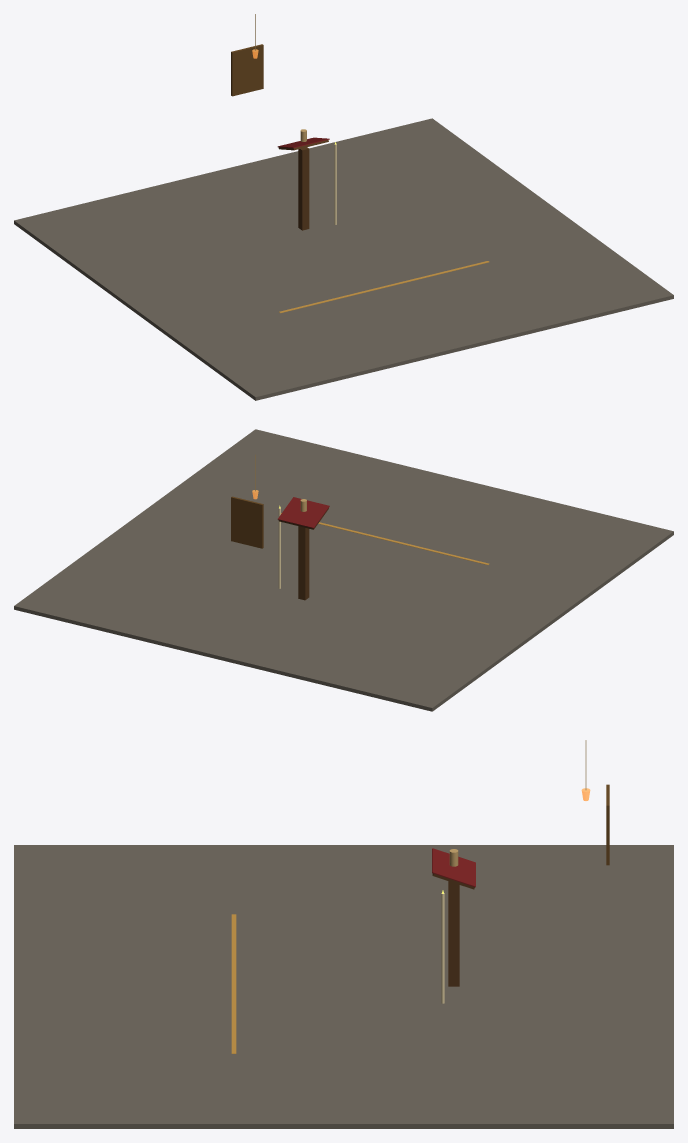
The model's file is sacrament-chrismation.glb.
3 renders of one model, top to bottom at view 1: azimuth 30°, elevation 25°; view 2: azimuth 150°, elevation 25°; view 3: azimuth 270°, elevation 25°, orthographic. The views are drawn at different scales.
Visible parts, largest first — view 1: floor, icon-board, analoy-stand; view 2: floor, icon-board, analoy-cloth, analoy-stand, witness-line; view 3: floor, analoy-stand, analoy-cloth, witness-line.
Part boxes in pixels (box(x1,y1,x2,y2)): floor: box(14, 118, 673, 400); icon-board: box(231, 44, 263, 96); analoy-stand: box(298, 147, 309, 230); floor: box(14, 429, 673, 711); icon-board: box(231, 496, 263, 548); analoy-cloth: box(277, 497, 329, 528); analoy-stand: box(298, 526, 309, 600); witness-line: box(281, 513, 489, 564); floor: box(14, 845, 673, 1128); analoy-stand: box(448, 881, 459, 986); analoy-cloth: box(432, 848, 475, 887); witness-line: box(231, 914, 236, 1053).
Size of the model in its own units: 6 by 2.5 by 6.
